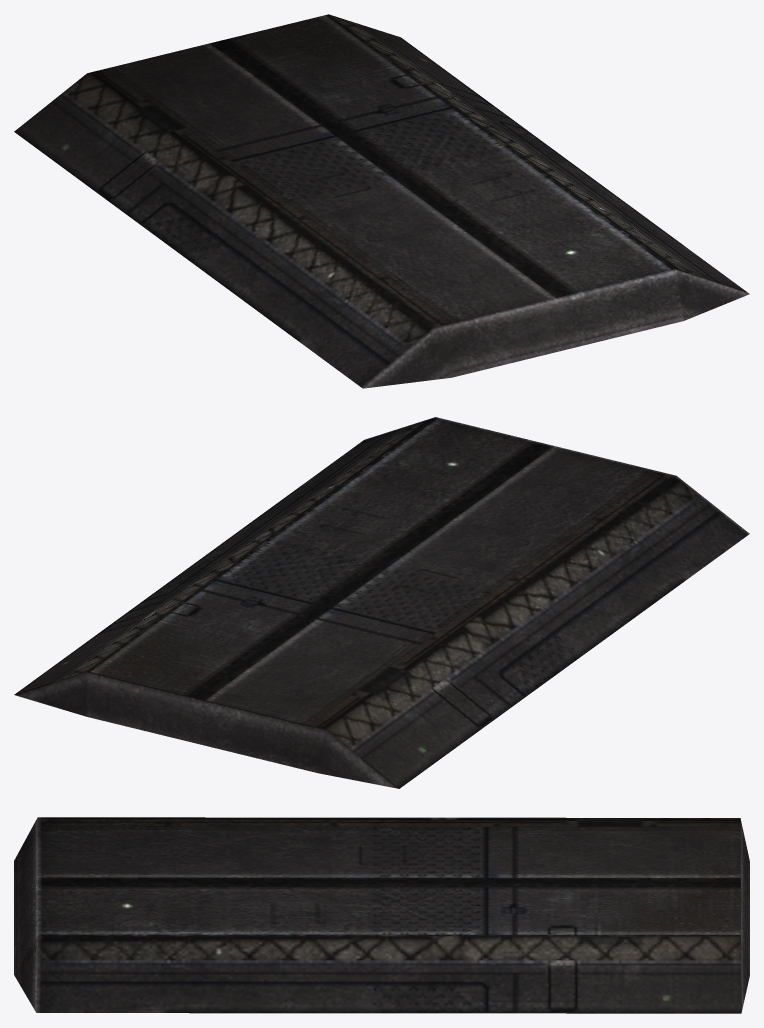
File: Ceiling_D_patch1m.fbx
3 views of the same model, one above another, from view 1: azimuth 30°, elevation 25°; view 2: azimuth 150°, elevation 25°; view 3: azimuth 270°, elevation 25° (orthographic).
Visible parts, largest first — view 1: Ceiling_D_patch1m; view 2: Ceiling_D_patch1m; view 3: Ceiling_D_patch1m.
Boxes of the visible parts, <box> form: Ceiling_D_patch1m: <box>14,14,749,388</box>; Ceiling_D_patch1m: <box>14,417,749,788</box>; Ceiling_D_patch1m: <box>14,817,749,1013</box>.
Bounding box in the file's own units: 63.22 × 6.39 × 103.
